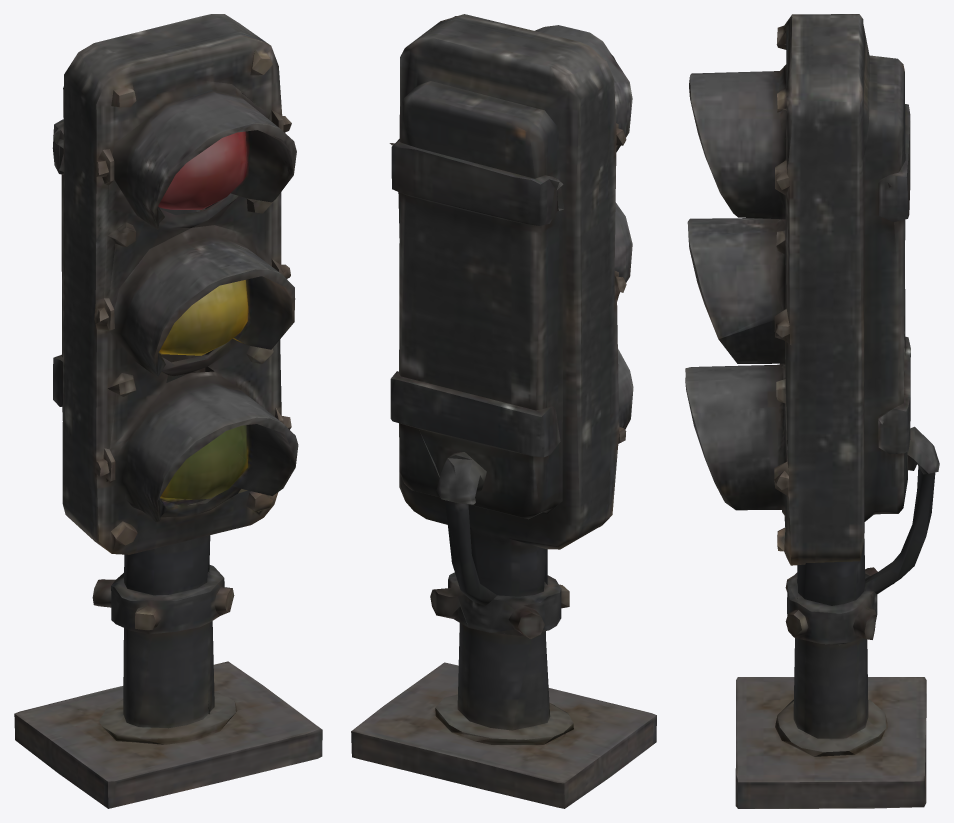
The model's file is p7-signal-head-spare.glb.
3 renders of one model, left to right at view 1: azimuth 30°, elevation 25°; view 2: azimuth 150°, elevation 25°; view 3: azimuth 270°, elevation 25°, orthographic.
Visible parts, largest first — view 1: p7-signal-head-spare; view 2: p7-signal-head-spare; view 3: p7-signal-head-spare.
Boxes of the visible parts, box(x1,y1,x2,y2) form: p7-signal-head-spare: box(14, 14, 322, 808); p7-signal-head-spare: box(351, 14, 656, 808); p7-signal-head-spare: box(685, 14, 939, 808).
Bounding box in the file's own units: 0.35 × 1.1 × 0.3566.
1 material, 1 textured.
